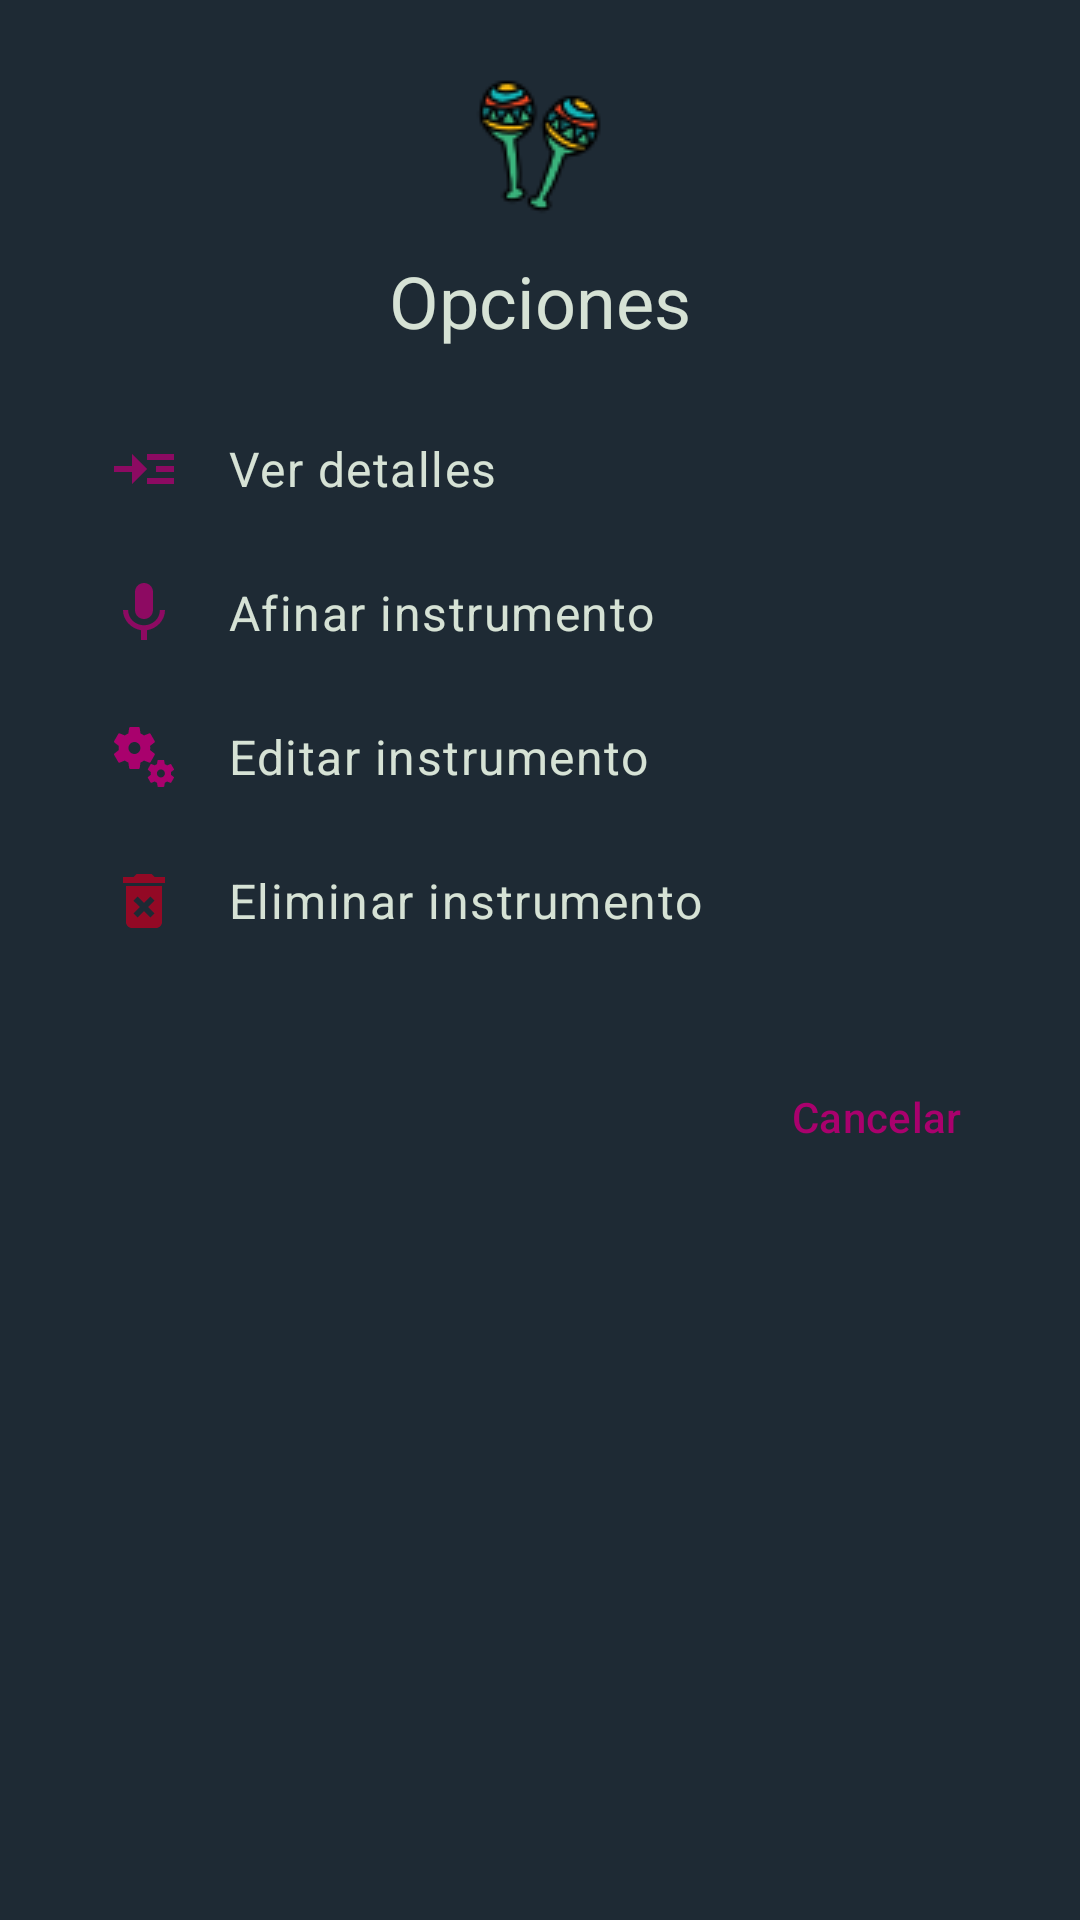

Where icons sit on this 1080×1920 app screen, as (x1, y1, x2, y2):
maracas: (480, 81, 600, 210)
